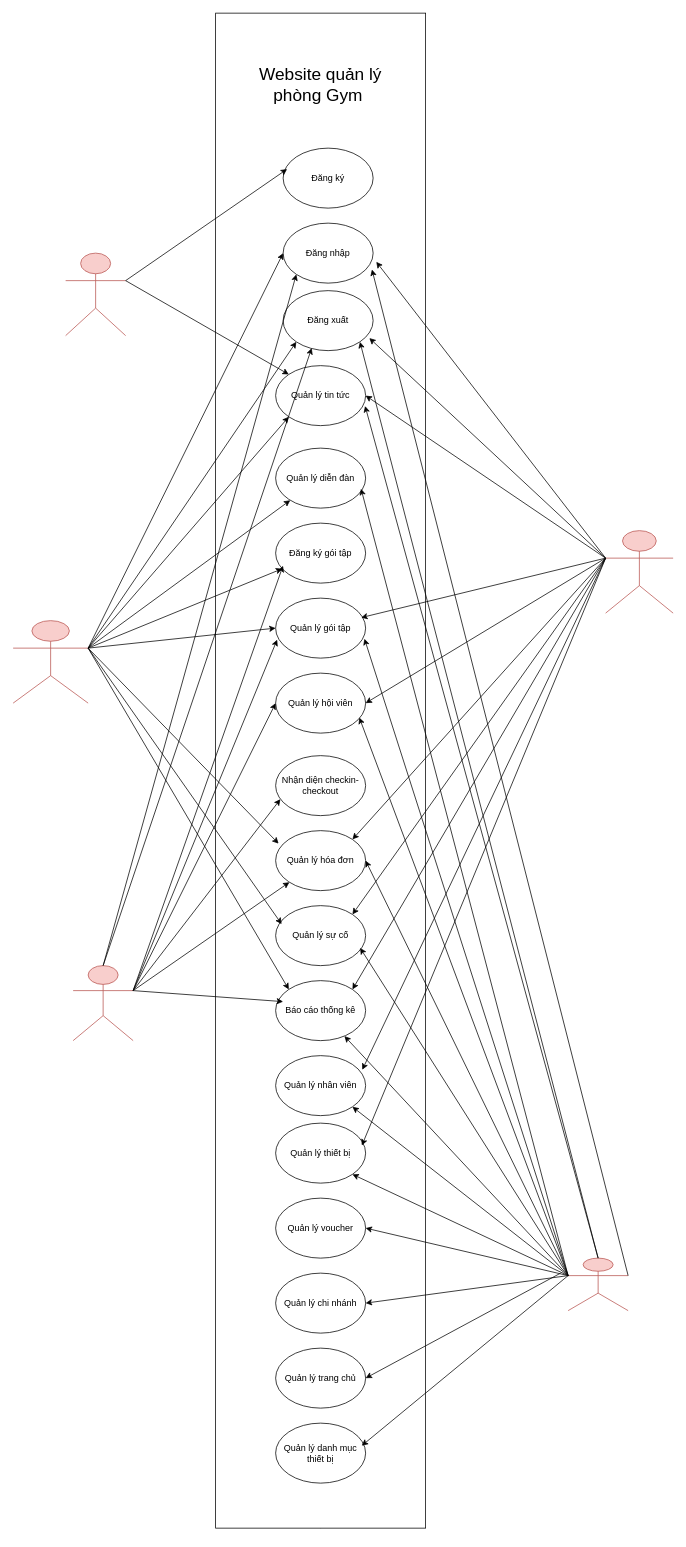
Image size: 686x1547. Some labels were removed from this diagram. The shapes that lost their labels are listed below. From the top down, each one's centre as x and y in pixels, then its label:
At [95,294]: "Khách".
At [639,571]: "Quản lý".
At [50,661]: "Hội viên".
At [102,1003]: "Thu Ngân".
At [597,1284]: "Admin".
